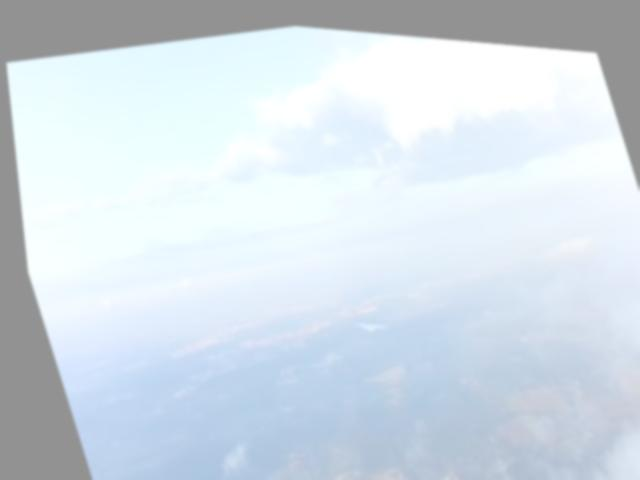uav: (347, 308, 385, 332)
